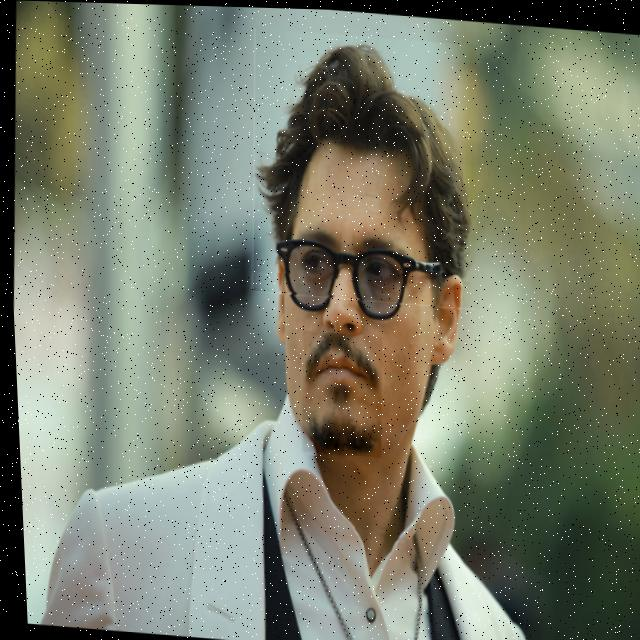beard: (299, 332, 377, 455)
hair: (253, 34, 473, 303)
